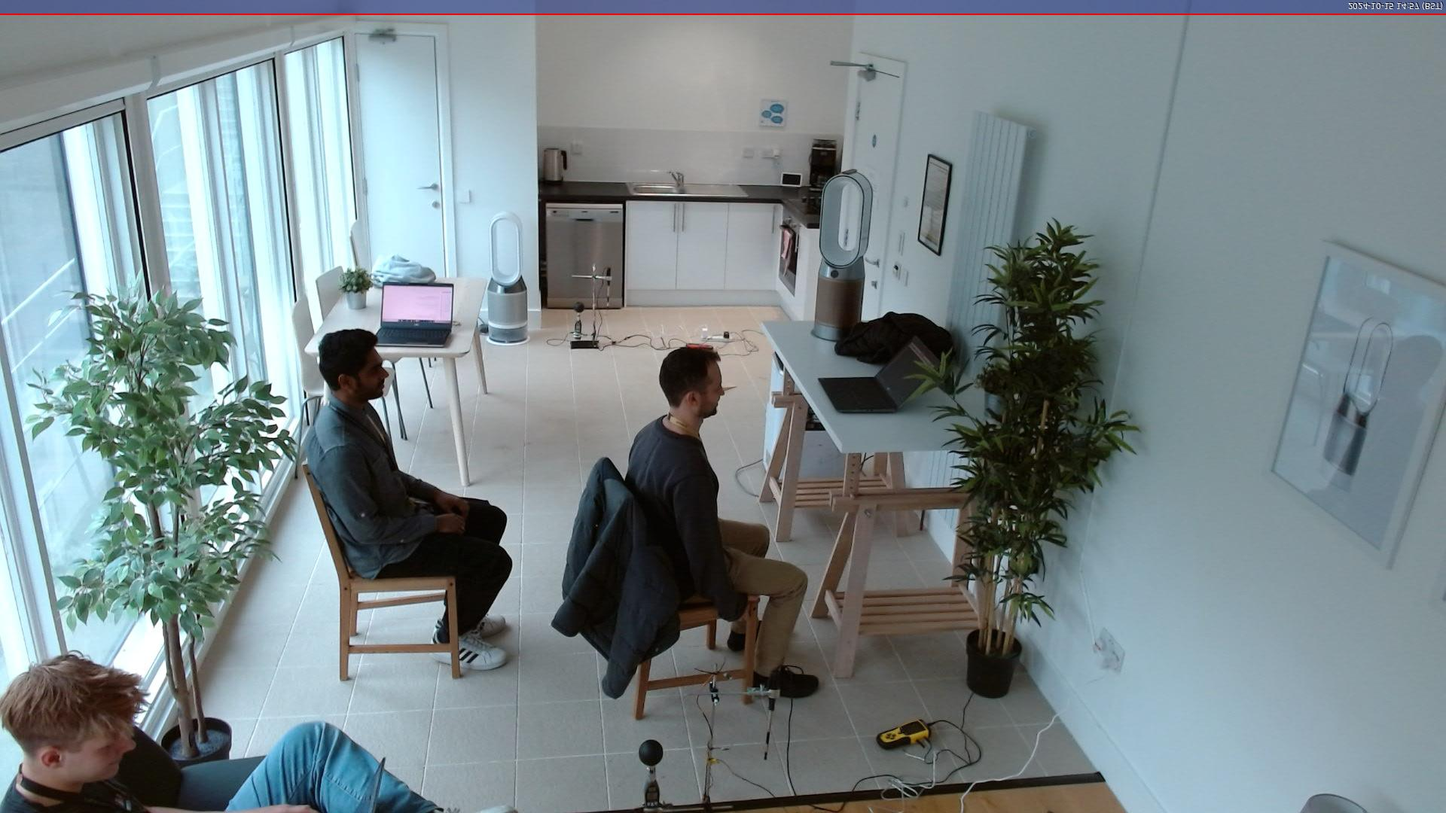long sleeve shirt: (306, 392, 445, 581)
short sleeve shirt: (0, 763, 148, 813)
sweater: (628, 414, 748, 621)
trousers: (219, 715, 446, 813), (374, 496, 514, 641), (695, 517, 811, 679)
